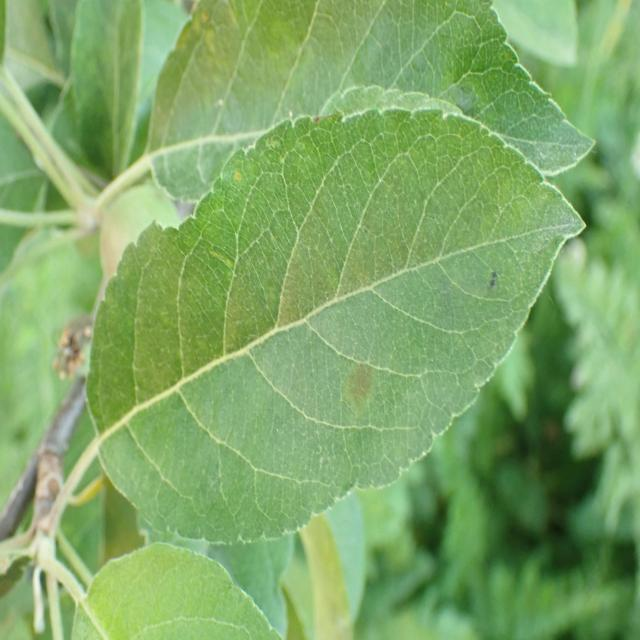scab: (111, 247, 508, 475)
